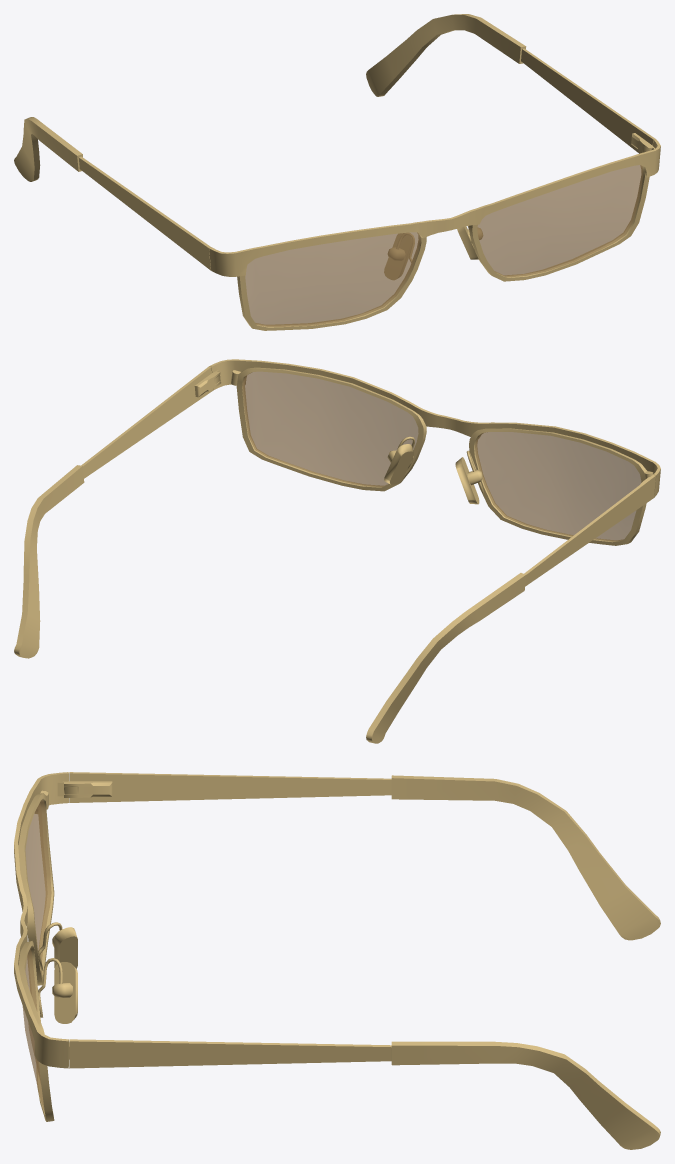
File: model_9_emas_antik.glb
The picture shows the model from 3 angles, top to bottom: view 1: azimuth 30°, elevation 25°; view 2: azimuth 150°, elevation 25°; view 3: azimuth 270°, elevation 25°; orthographic projection. The views are drawn at different scales.
Visible parts, largest first — view 1: model_9_emas_antik; view 2: model_9_emas_antik; view 3: model_9_emas_antik.
Part boxes in pixels (x1=…): model_9_emas_antik: x1=14, y1=14, x2=660, y2=330; model_9_emas_antik: x1=14, y1=359, x2=660, y2=743; model_9_emas_antik: x1=14, y1=772, x2=660, y2=1149.
Bounding box in the file's own units: 3.23 × 0.7924 × 3.27.
